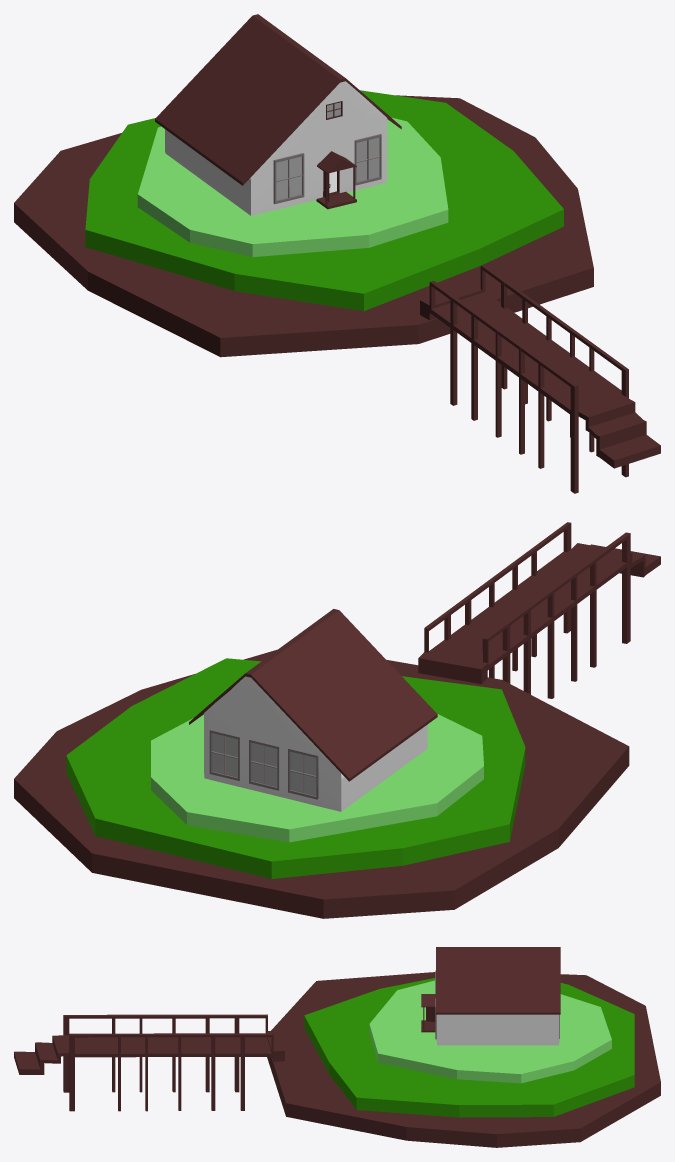
File: House.fbx
3 renders of one model, top to bottom at view 1: azimuth 30°, elevation 25°; view 2: azimuth 150°, elevation 25°; view 3: azimuth 270°, elevation 25°, orthographic. The views are drawn at different scales.
Visible parts, largest first — view 1: pCylinder3, pCylinder1, pCylinder2, pCube4, pCube3, pCube2, polySurface29, polySurface30, Front_Porch; view 2: pCylinder3, pCylinder1, pCylinder2, pCube4, pCube3, pCube2, polySurface42, polySurface43, polySurface44; view 3: pCylinder3, pCylinder1, pCylinder2, pCube4, pCube3, pCube2, Front_Porch.
Boxes of the visible parts, left/top/right/bottom form: pCylinder3: left=14, top=95, right=593, bottom=357; pCylinder1: left=85, top=90, right=563, bottom=310; pCylinder2: left=137, top=117, right=448, bottom=256; pCube4: left=420, top=264, right=660, bottom=493; pCube3: left=155, top=14, right=401, bottom=185; pCube2: left=165, top=81, right=387, bottom=215; polySurface29: left=273, top=153, right=304, bottom=204; polySurface30: left=354, top=134, right=381, bottom=185; Front_Porch: left=316, top=151, right=356, bottom=209; pCylinder3: left=14, top=649, right=629, bottom=918; pCylinder1: left=66, top=658, right=525, bottom=878; pCylinder2: left=151, top=714, right=483, bottom=842; pCube4: left=418, top=522, right=660, bottom=698; pCube3: left=189, top=609, right=437, bottom=781; pCube2: left=204, top=676, right=427, bottom=811; polySurface42: left=288, top=748, right=318, bottom=799; polySurface43: left=249, top=739, right=279, bottom=790; polySurface44: left=209, top=730, right=239, bottom=780; pCylinder3: left=267, top=972, right=660, bottom=1147; pCylinder1: left=304, top=978, right=634, bottom=1117; pCylinder2: left=369, top=980, right=611, bottom=1083; pCube4: left=14, top=1014, right=284, bottom=1111; pCube3: left=436, top=947, right=560, bottom=1014; pCube2: left=436, top=1014, right=559, bottom=1045; Front_Porch: left=421, top=994, right=435, bottom=1032.
Size of the model in its own units: 22.61 by 9.86 by 37.68.
